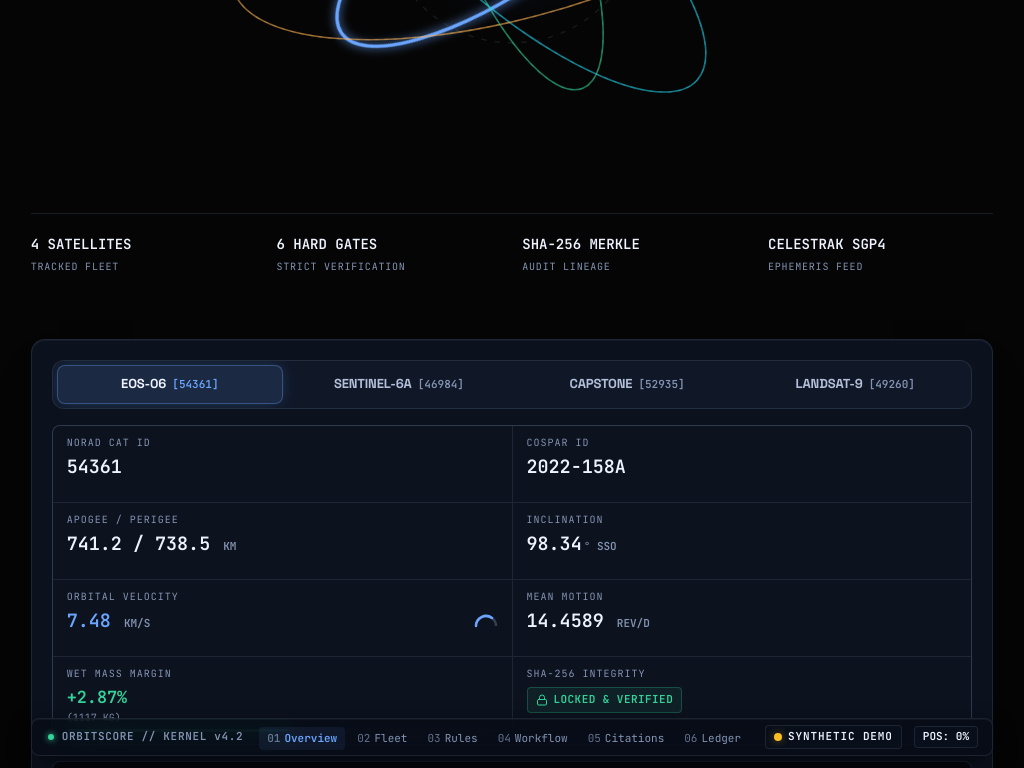
Scenario: Slice 9: Aerospace Telemetry Landing Page & Deterministic Command Engine › switches real spacecraft and updates telemetry readouts and TLE on tab click
(page scrolled)
Expected: the text "54361" is shown, x1=67 y1=454 x2=122 y2=479
Expected: the text "2022-158A" is shown, x1=526 y1=454 x2=626 y2=479
// Switch to Sentinel-6A [46984]
What coordinates should you click on to do the following:
click the tab "SENTINEL-6A [46984]"
I would click on:
 (399, 385)
Its box is x1=287 y1=365 x2=511 y2=404.
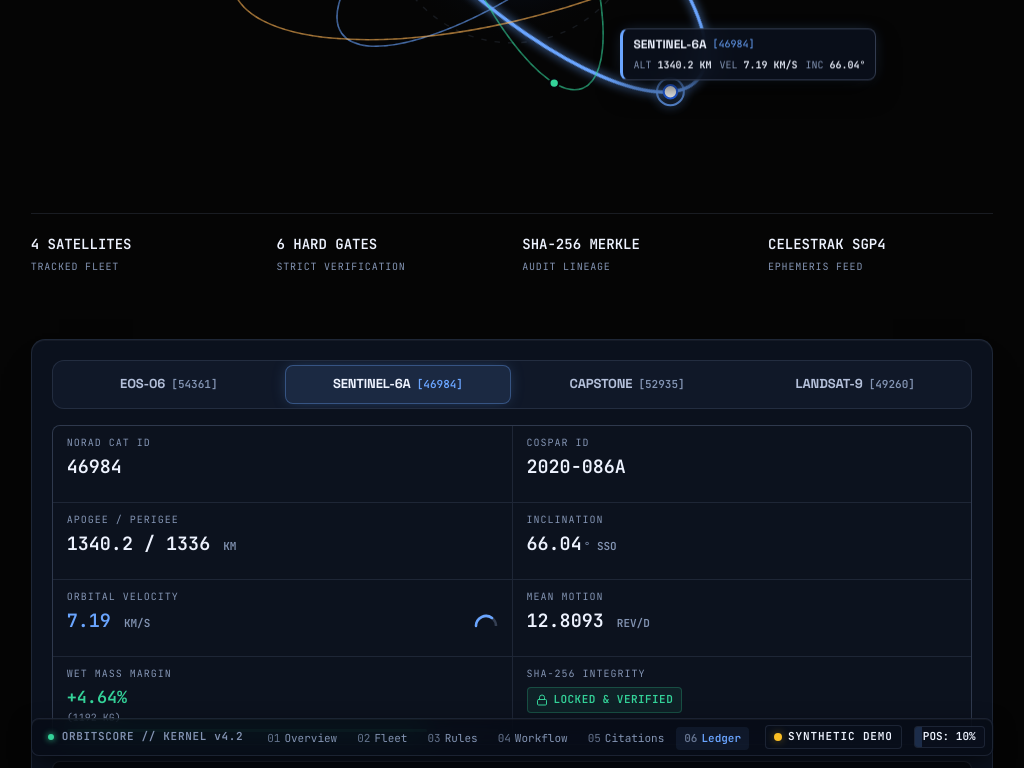
Now the text "46984" is shown, box x1=67 y1=454 x2=122 y2=479
Now the text "2020-086A" is shown, box x1=526 y1=454 x2=626 y2=479
